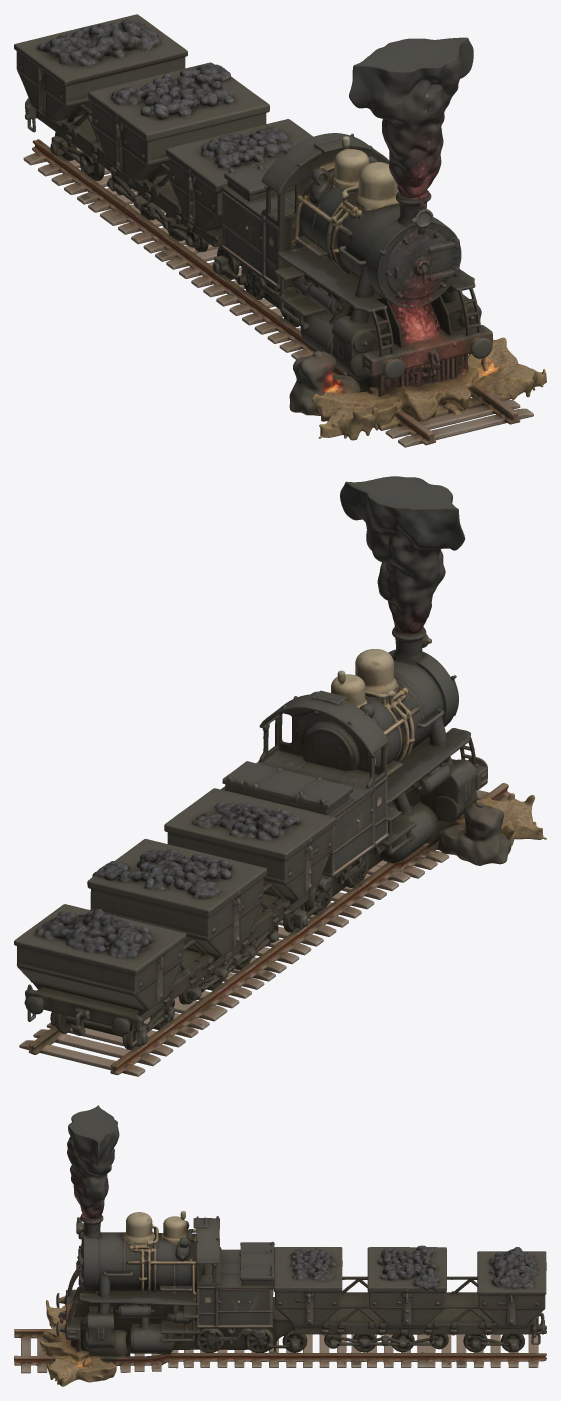
The model's file is 72-el-tren-de-carbón-y-los-pastizales.-optimized.glb.
The picture shows the model from 3 angles, top to bottom: view 1: azimuth 30°, elevation 25°; view 2: azimuth 150°, elevation 25°; view 3: azimuth 270°, elevation 25°; orthographic projection. The views are drawn at different scales.
Parts seen in each view (by area): view 1: tripo_node_ea218d45-d821-4651-9104-b98c3f5b37aa; view 2: tripo_node_ea218d45-d821-4651-9104-b98c3f5b37aa; view 3: tripo_node_ea218d45-d821-4651-9104-b98c3f5b37aa.
Part boxes in pixels (left/top/right/bottom): tripo_node_ea218d45-d821-4651-9104-b98c3f5b37aa: left=14, top=14, right=546, bottom=447; tripo_node_ea218d45-d821-4651-9104-b98c3f5b37aa: left=14, top=476, right=546, bottom=1076; tripo_node_ea218d45-d821-4651-9104-b98c3f5b37aa: left=14, top=1105, right=546, bottom=1386.
Size of the model in its own units: 0.3325 by 0.4738 by 1.
Materials: 1 (1 with a texture image).
